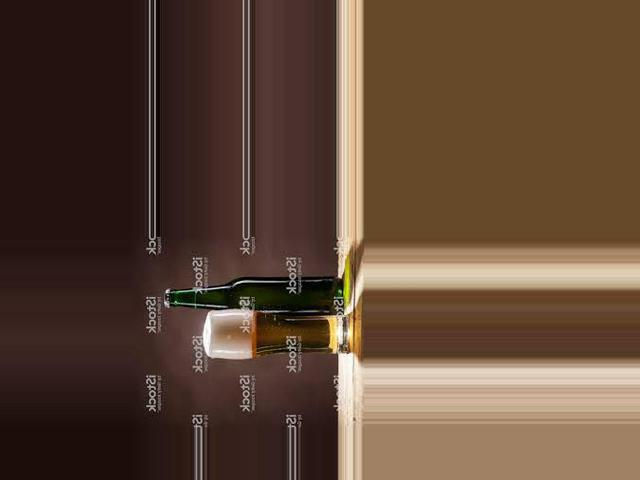beer: (164, 276, 344, 316)
